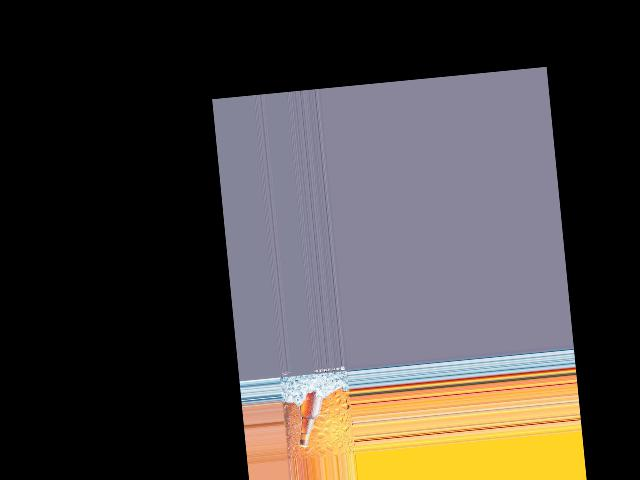beer: (291, 390, 326, 448)
